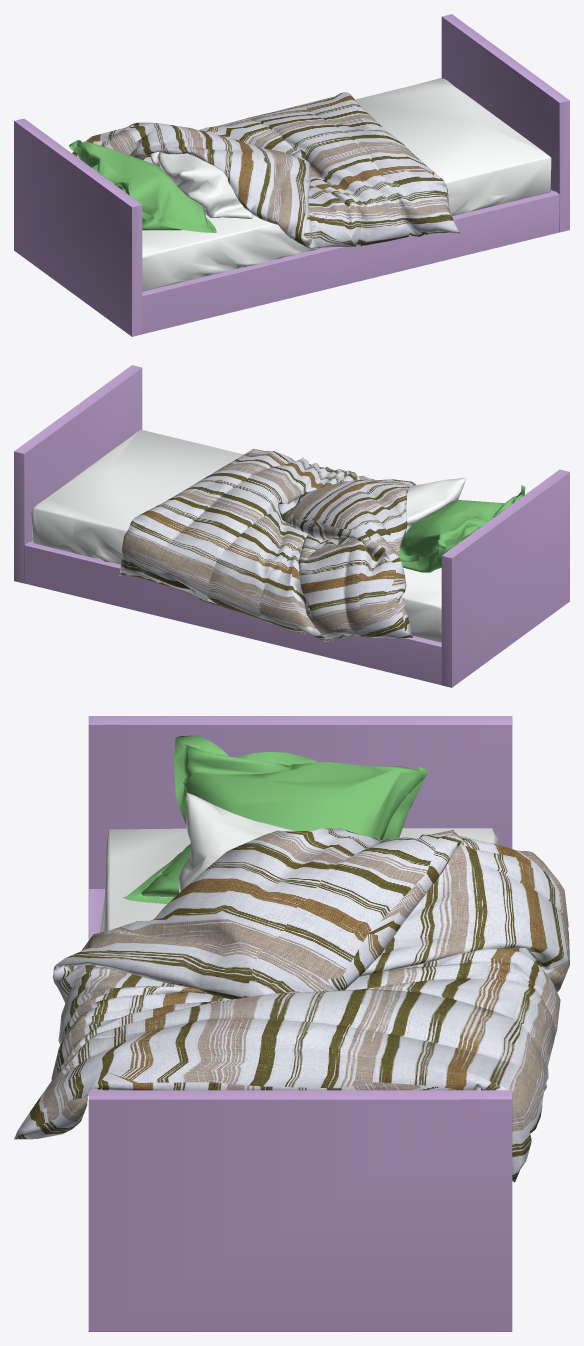
File: main_bed2.fbx
3 views of the same model, one above another, from view 1: azimuth 30°, elevation 25°; view 2: azimuth 150°, elevation 25°; view 3: azimuth 270°, elevation 25° (orthographic). The views are drawn at different scales.
Visible parts, largest first — view 1: Bed, odealo, prostin, Pillows2, Pillows1; view 2: Bed, odealo, prostin, Pillows2, Pillows1; view 3: Bed, odealo, Pillows2, prostin, Pillows1.
Boxes of the visible parts, x1,y1,x2,y2 form: Bed: [14, 14, 569, 336]; odealo: [72, 92, 459, 248]; prostin: [142, 78, 551, 291]; Pillows2: [69, 140, 216, 232]; Pillows1: [151, 152, 253, 218]; Bed: [14, 365, 569, 687]; odealo: [119, 449, 415, 641]; prostin: [31, 429, 441, 642]; Pillows2: [399, 485, 525, 572]; Pillows1: [405, 477, 466, 533]; Bed: [88, 716, 512, 1331]; odealo: [14, 828, 569, 1182]; Pillows2: [123, 735, 428, 903]; prostin: [100, 828, 498, 1090]; Pillows1: [151, 792, 295, 920].
Size of the model in its own units: 283 by 80.08 by 173.
